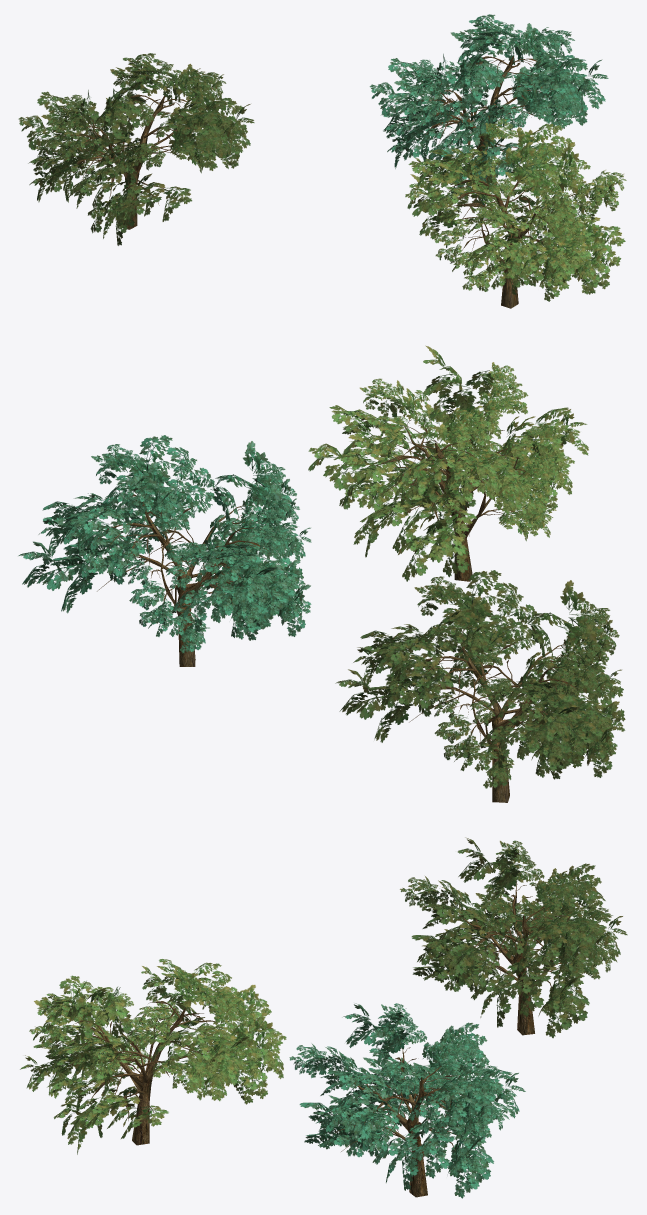
The model's file is bgTrees.glb.
3 views of the same model, one above another, from view 1: azimuth 30°, elevation 25°; view 2: azimuth 150°, elevation 25°; view 3: azimuth 270°, elevation 25° (orthographic). The views are drawn at different scales.
Parts seen in each view (by area): view 1: tree oak joined.002, tree oak joined.001, tree oak joined.003; view 2: tree oak joined.001, tree oak joined.003, tree oak joined.002; view 3: tree oak joined.002, tree oak joined.003, tree oak joined.001.
Part boxes in pixels (x1,y1,x2,y2): tree oak joined.002: (405,118,626,308); tree oak joined.001: (18,53,254,245); tree oak joined.003: (369,14,608,207); tree oak joined.001: (335,570,625,802); tree oak joined.003: (18,435,311,666); tree oak joined.002: (308,345,588,581); tree oak joined.002: (20,959,286,1154); tree oak joined.003: (289,1003,525,1198); tree oak joined.001: (400,837,627,1038).
Bounding box in the file's own units: 4.64 × 1.44 × 4.38.
4 materials, 4 textured.
